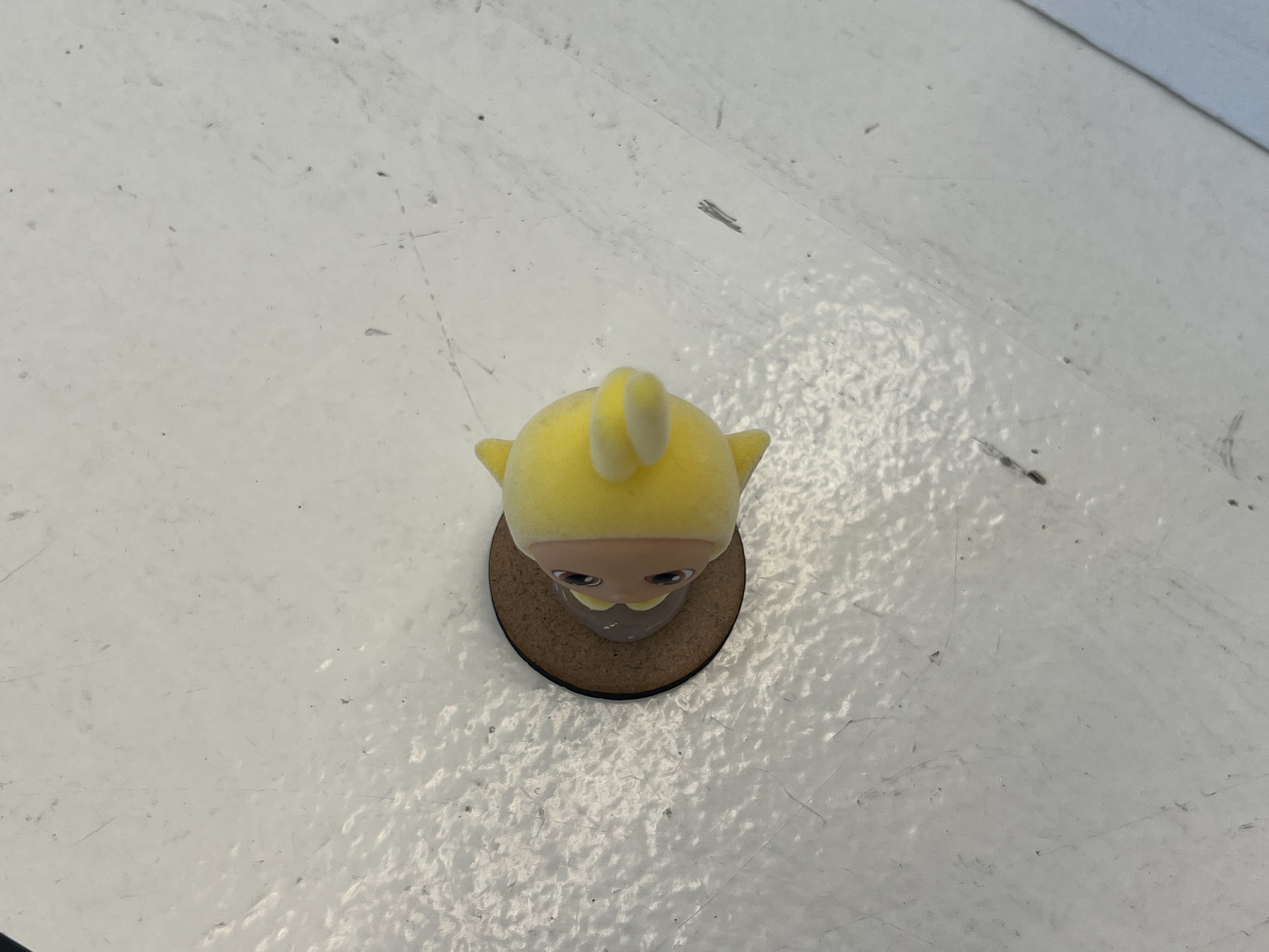teletubby: (476, 368, 770, 611)
